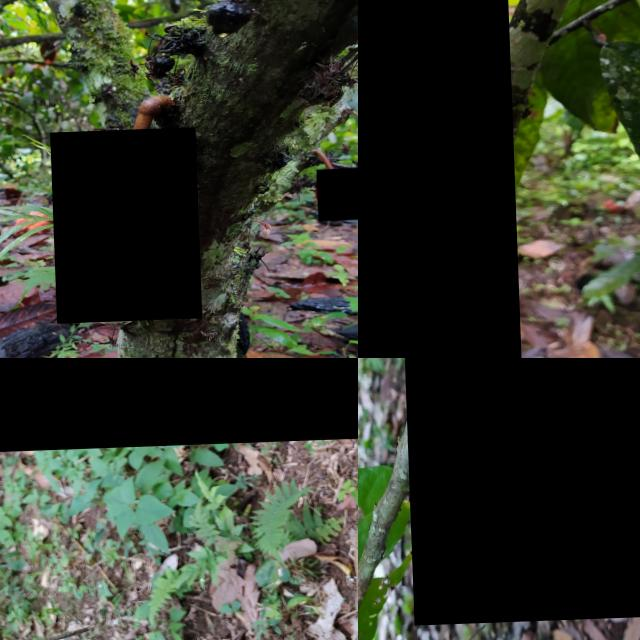Monilia: (403, 358, 640, 626), (358, 0, 519, 358), (0, 358, 358, 454), (48, 131, 199, 326)
Sana: (313, 172, 358, 225)
